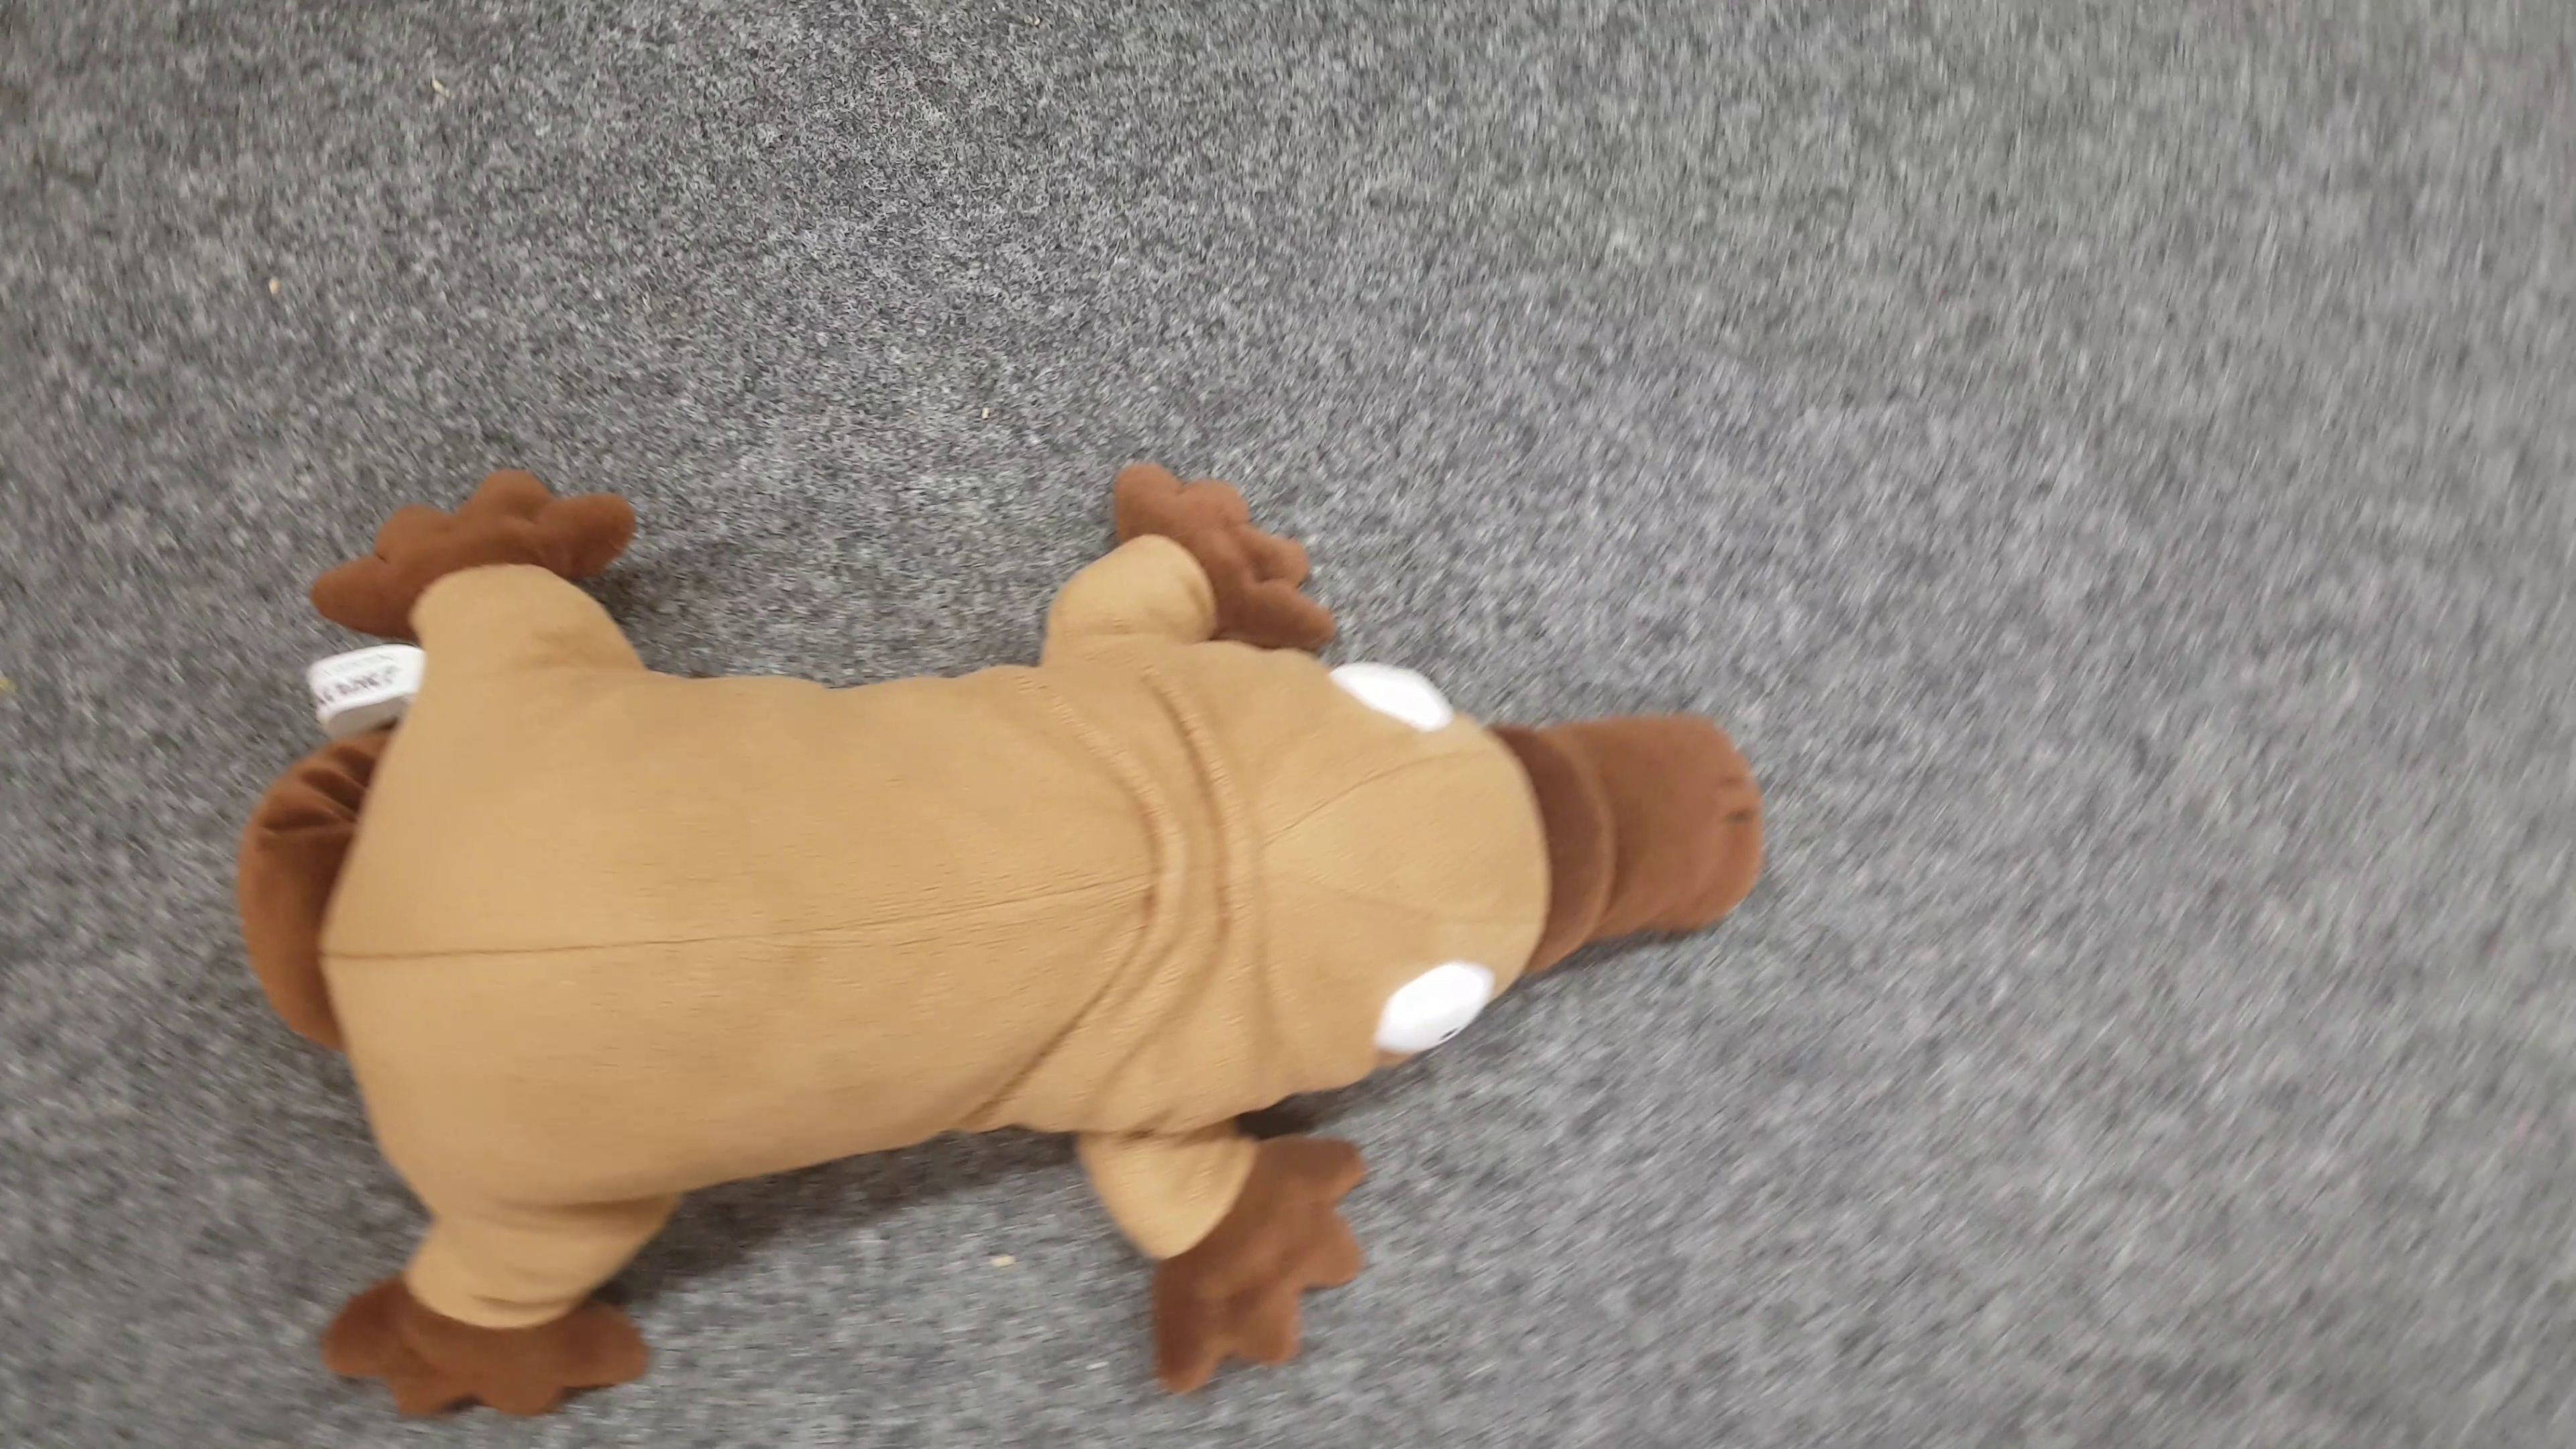grasp: (267, 458, 1773, 1449)
